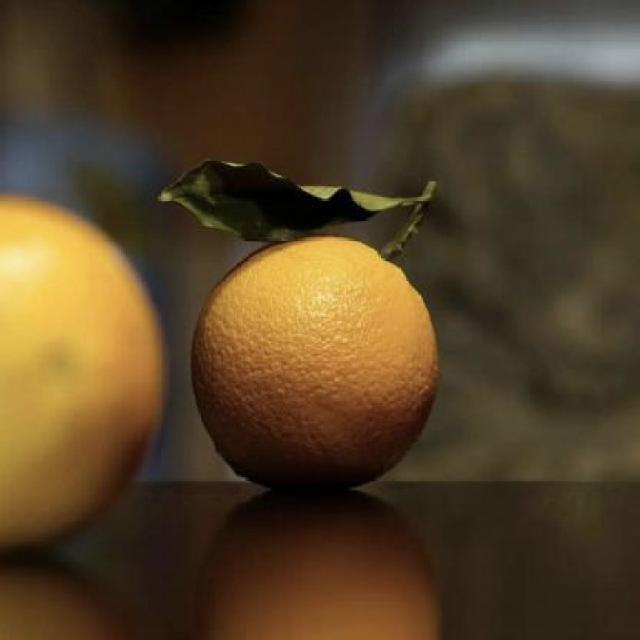Jeruk Sudah Matang: (189, 237, 442, 500), (0, 193, 163, 569)
